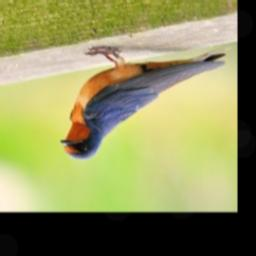Swallow: (55, 39, 227, 164)
